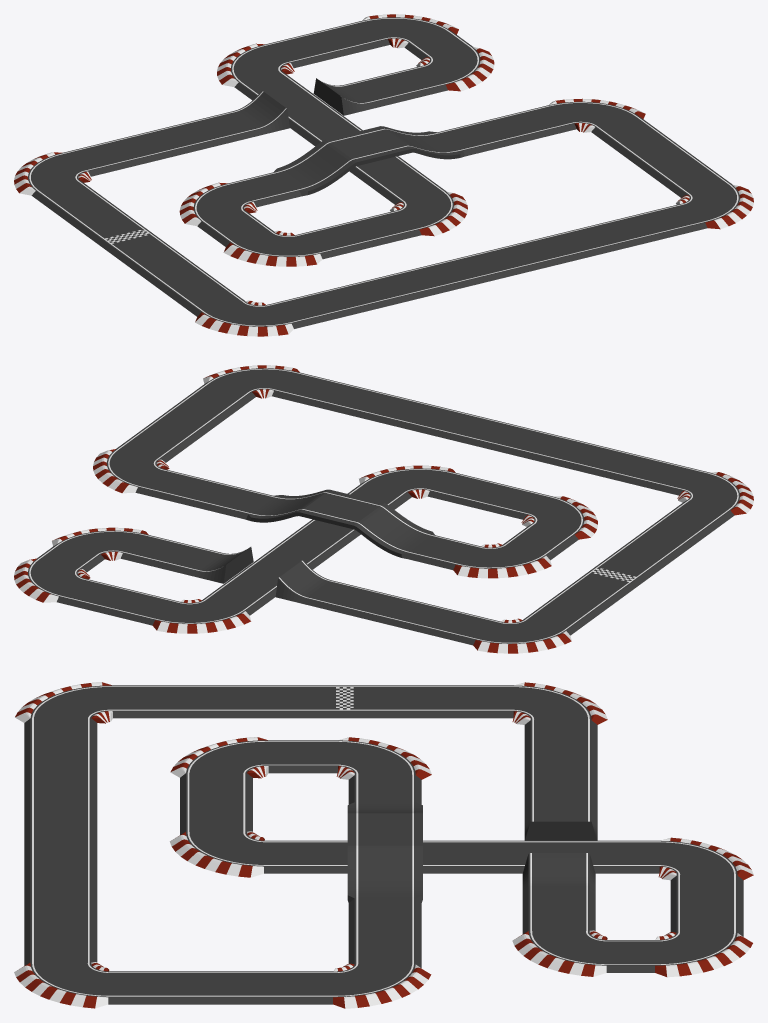
The model's file is Track-01.fbx.
3 views of the same model, one above another, from view 1: azimuth 30°, elevation 25°; view 2: azimuth 150°, elevation 25°; view 3: azimuth 270°, elevation 25° (orthographic). The views are drawn at different scales.
Visible parts, largest first — view 1: Track-01; view 2: Track-01; view 3: Track-01.
Boxes of the visible parts, x1=… form: Track-01: x1=14, y1=14, x2=753, y2=336; Track-01: x1=14, y1=365, x2=753, y2=653; Track-01: x1=14, y1=682, x2=753, y2=1008.
Size of the model in its own units: 19127 by 698 by 18368.
